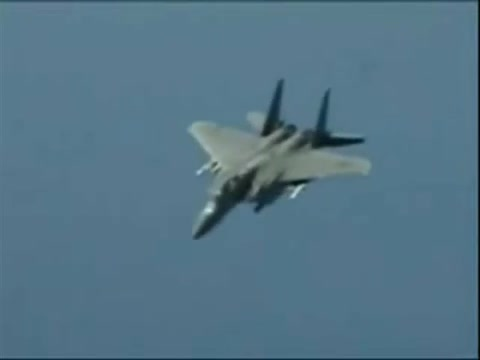aeroplane: (187, 83, 376, 242)
